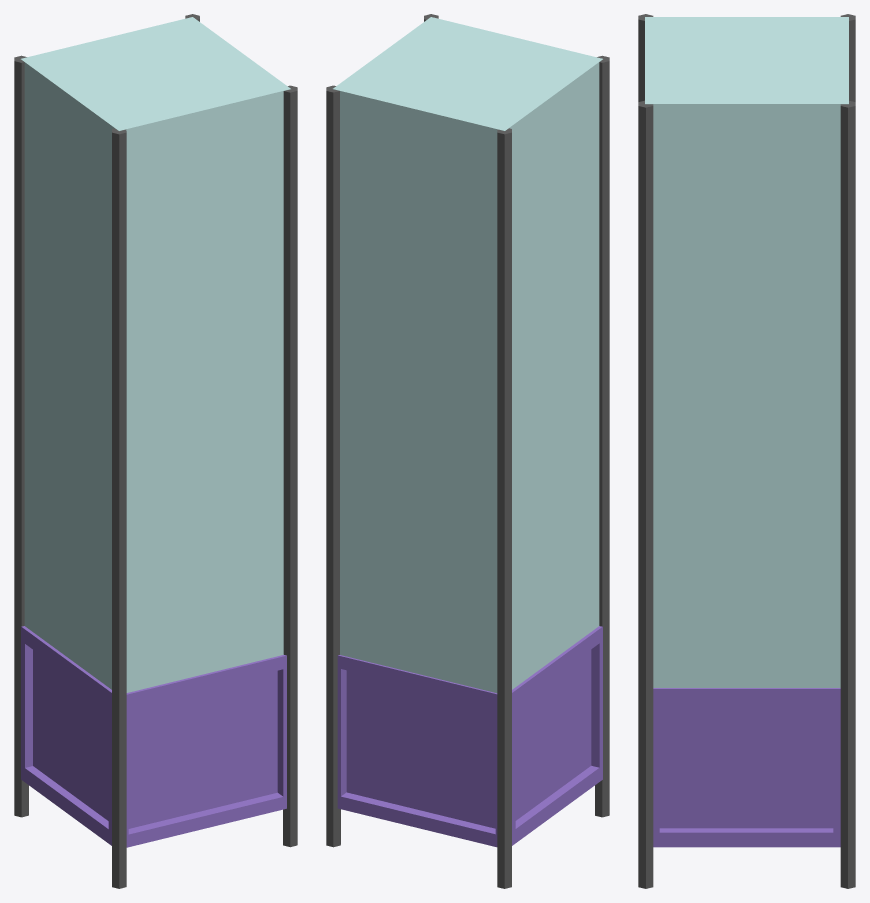
Rendered from Glass shelf.fbx.
3 views of the same model, side by side, from view 1: azimuth 30°, elevation 25°; view 2: azimuth 150°, elevation 25°; view 3: azimuth 270°, elevation 25° (orthographic). The views are drawn at different scales.
Parts seen in each view (by area): view 1: Glass shelf; view 2: Glass shelf; view 3: Glass shelf.
Boxes of the visible parts, x1,y1,x2,y2 form: Glass shelf: (14, 14, 297, 888); Glass shelf: (326, 14, 609, 888); Glass shelf: (638, 14, 855, 888).
Bounding box in the file's own units: 93.48 × 364 × 91.72.
2 materials, 1 textured.
